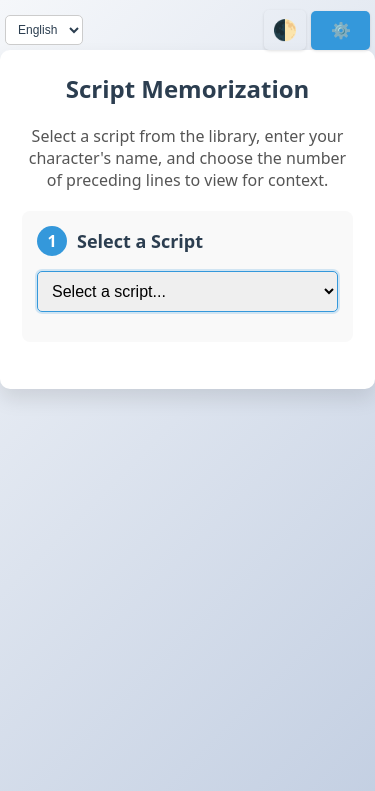
Mobile Responsiveness › should adapt to mobile viewport
Expected: the element with class "app-content" is shown, x1=0 y1=50 x2=374 y2=389
Expected: the element with class "header-controls" is shown, x1=5 y1=5 x2=370 y2=55
Select "IL CALAPRANZI" in the dropdown below "Script Memorization": (188, 292) x1=37 y1=271 x2=338 y2=312
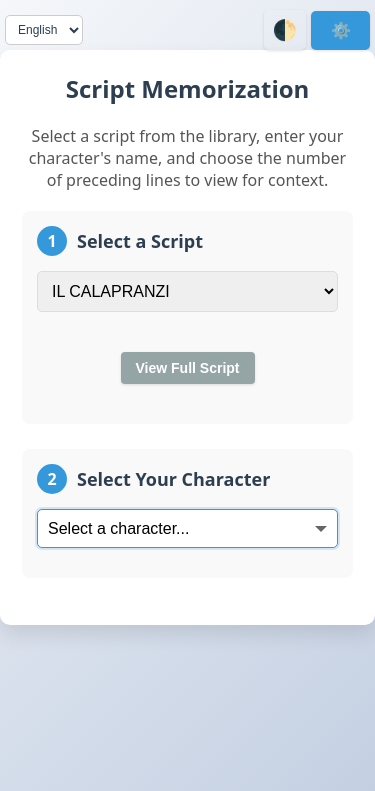
Select "BEN" in the dropdown with id "characterSelect": (188, 529) x1=37 y1=509 x2=338 y2=548
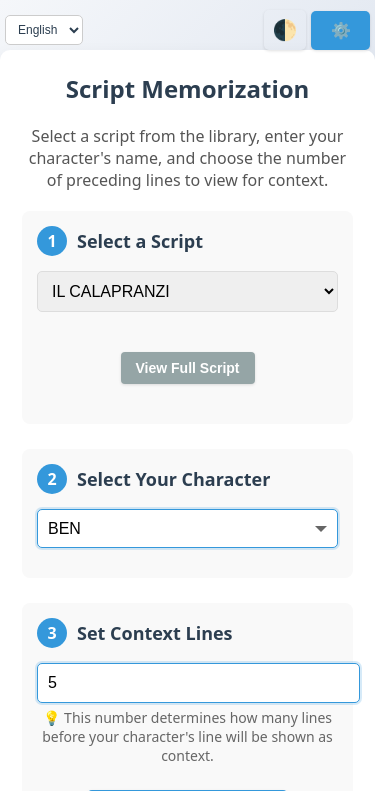
Replace the text in the number field with "1": (199, 683) x1=37 y1=663 x2=360 y2=703
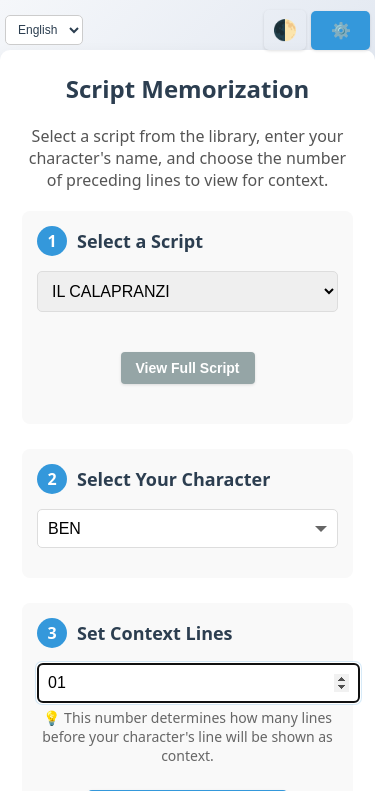
Scroll
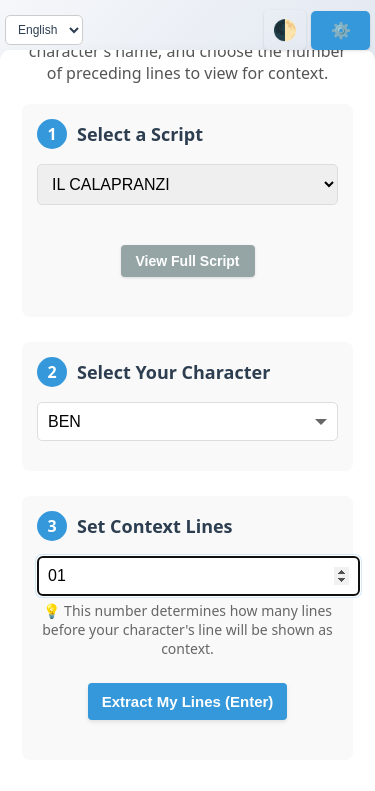
Click the button "Extract My Lines (Enter)": (188, 702) x1=88 y1=683 x2=288 y2=720
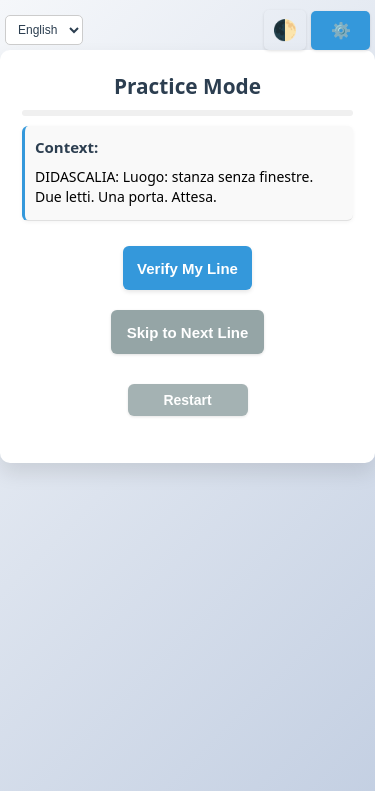
Result: the heading "Practice Mode" is shown at x1=114 y1=72 x2=261 y2=100
Result: the button "Verify My Line" is shown
Result: the button "Skip to Next Line" is shown at x1=111 y1=310 x2=264 y2=354
Click the button "Verify My Line": (188, 268) x1=123 y1=246 x2=252 y2=290
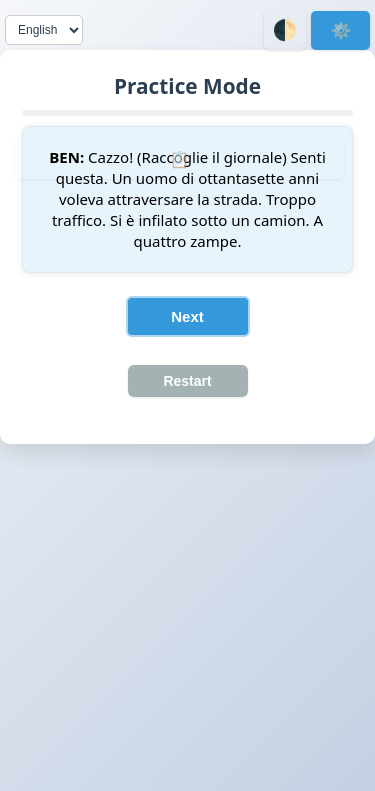
Result: the element with class "revealed" is shown at x1=22 y1=126 x2=353 y2=273
Result: the button "Next" is shown at x1=128 y1=298 x2=248 y2=335
